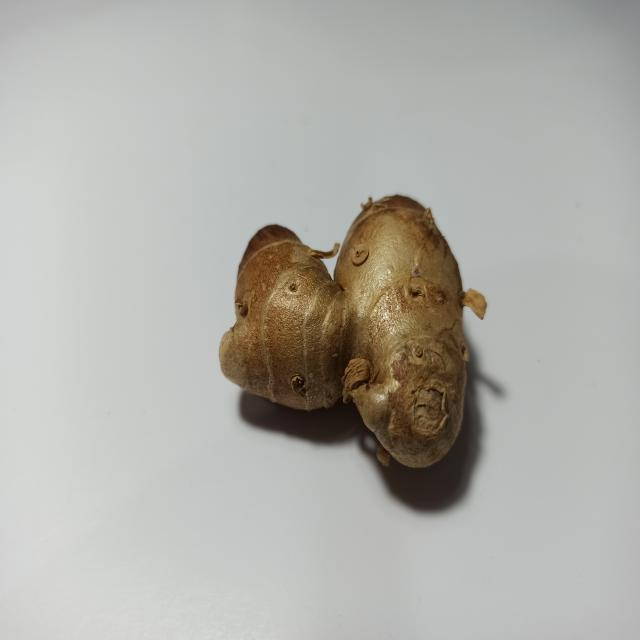ginger: (232, 182, 470, 469)
